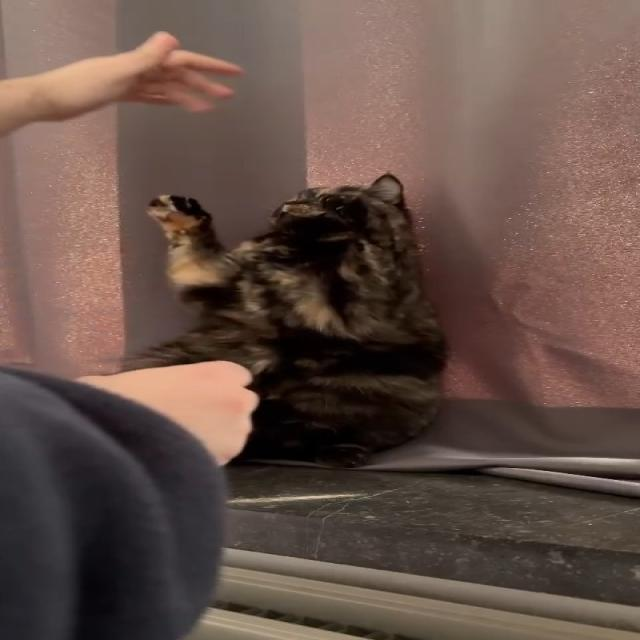authorized: (115, 172, 449, 469)
